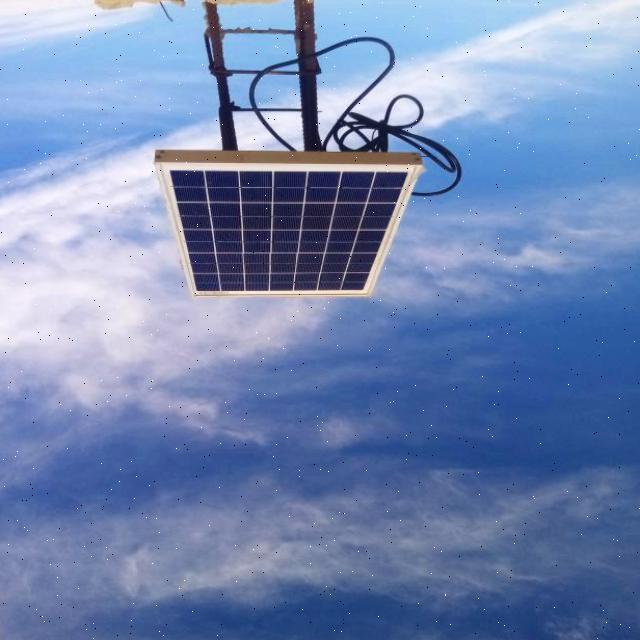Normal Solar Panel: (158, 162, 420, 296)
